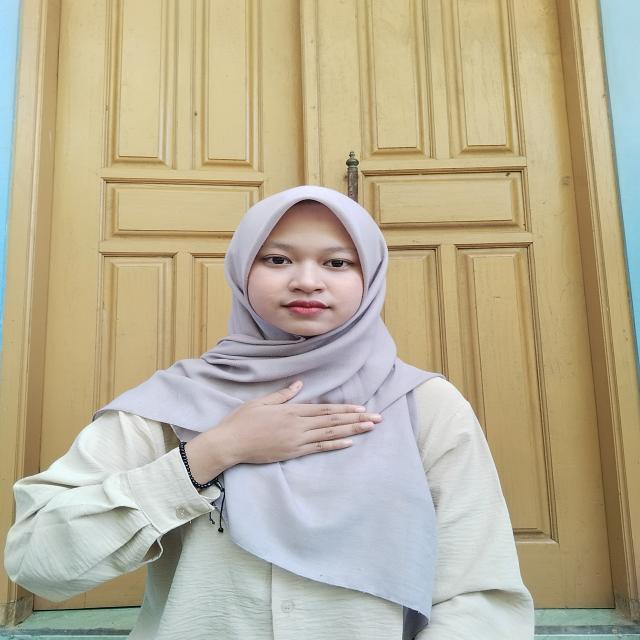tolong: (160, 383, 390, 490)
